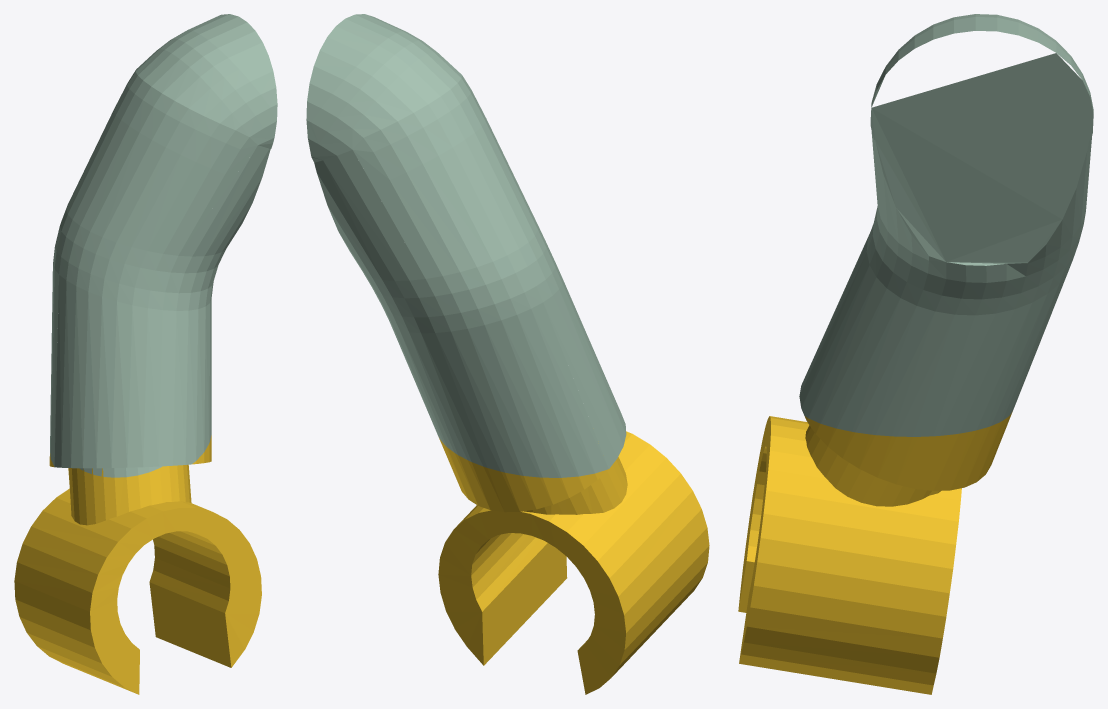
Rendered from armL.glb.
3 renders of one model, left to right at view 1: azimuth 30°, elevation 25°; view 2: azimuth 150°, elevation 25°; view 3: azimuth 270°, elevation 25°, orthographic. The views are drawn at different scales.
Visible parts, largest first — view 1: mom_armL; view 2: mom_armL; view 3: mom_armL.
Boxes of the visible parts, x1,y1,x2,y2 form: mom_armL: (14, 14, 277, 694); mom_armL: (306, 14, 709, 694); mom_armL: (738, 14, 1093, 694).
Bounding box in the file's own units: 0.325 × 0.7369 × 0.322.
